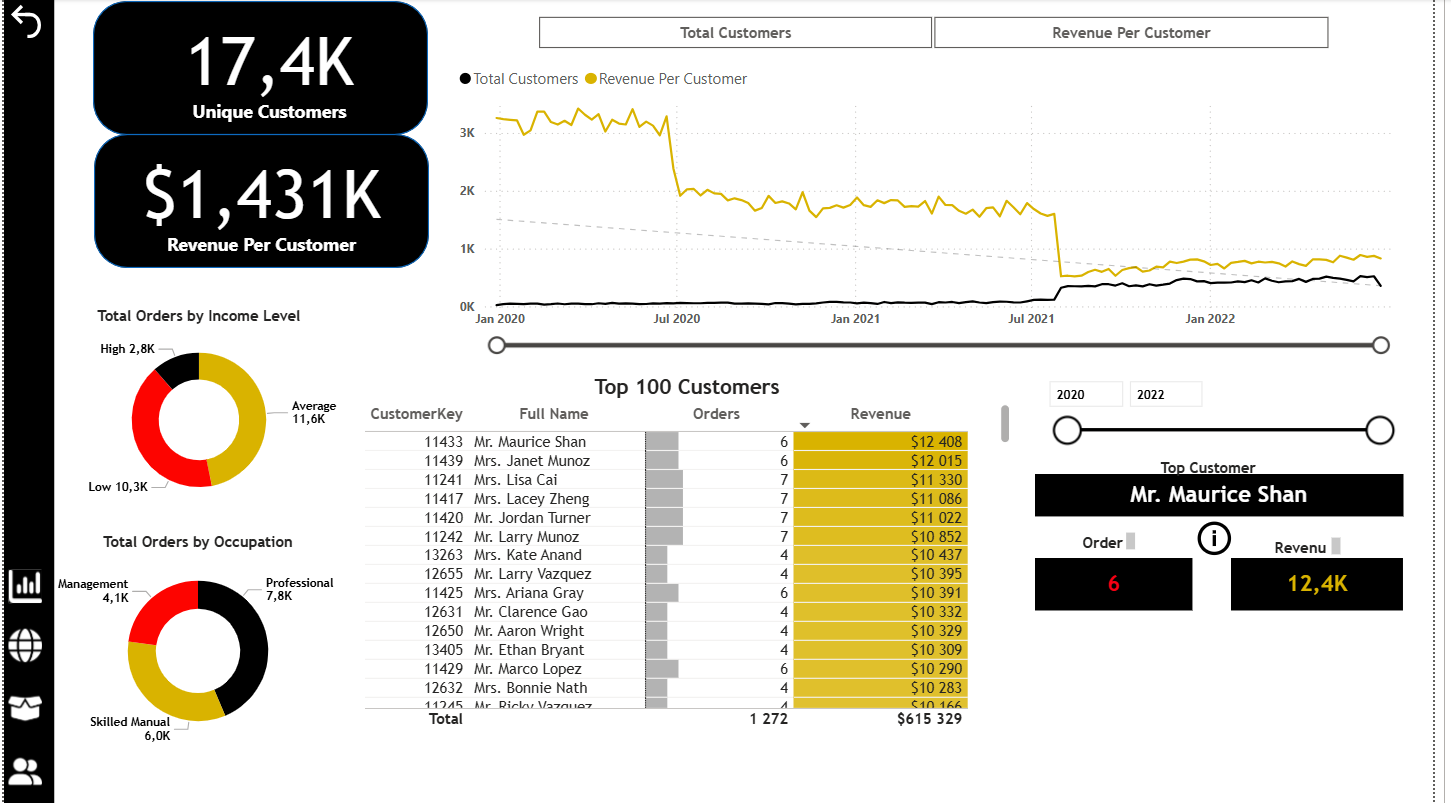

What the dashboard file says about the page in this screenshot:
{"tool":"powerbi","page":{"name":"Customer Detail","canvas":[1280,720],"ordinal":3},"visuals":[{"type":"card","fields":{"Values":["Measure Table.Total Customers"]},"box":[138.3,1.8,199.7,120],"z":0,"group":"g2"},{"type":"group","id":"g1","title":"Cards","box":[80.1,1.9,300.5,239],"z":0},{"type":"shape","box":[80.6,120.9,300,120],"z":0,"group":"g1"},{"type":"actionButton","box":[0,557.9,44.8,43],"z":0,"group":"g3"},{"type":"shape","title":"NAV Bar","box":[0,0,45,720],"z":1000},{"type":"shape","box":[80.1,1.9,300,120],"z":1000,"group":"g1"},{"type":"actionButton","box":[0,505.1,44.8,43],"z":1000,"group":"g3"},{"type":"group","id":"g2","title":"Customer Info","box":[83.4,1.8,294.6,239.3],"z":2000},{"type":"card","fields":{"Values":["Measure Table.Average Revenue Per Customer"]},"box":[83.4,121.1,294.6,120],"z":2000,"group":"g2"},{"type":"actionButton","box":[0,614.4,44.8,43],"z":2000,"group":"g3"},{"type":"lineChart","title":"Total Customers","fields":{"Y":["Measure Table.Total Customers","Measure Table.Average Revenue Per Customer"],"Category":["Calendar Lookup.Date Hierarchy.Start of Year","Calendar Lookup.Date Hierarchy.Start of Month","Calendar Lookup.Date Hierarchy.Start of Week","Calendar Lookup.Date Hierarchy.Date"]},"box":[402.1,51,858.8,269.6],"z":3000},{"type":"actionButton","box":[0,670.8,44.8,43],"z":3000,"group":"g3"},{"type":"donutChart","fields":{"Y":["Measure Table.Total Orders"],"Category":["Customer Lookup.Income Level"]},"box":[46.6,274.9,256.1,188.1],"z":4000},{"type":"donutChart","fields":{"Y":["Measure Table.Total Orders"],"Category":["Customer Lookup.Occupation"]},"box":[44.8,477.3,257.9,197],"z":5000},{"type":"tableEx","title":"Top 100 Customers","fields":{"Values":["Customer Lookup.CustomerKey","Customer Lookup.Full Customer Name","Measure Table.Total Orders","Measure Table.Total Revenue"]},"box":[317,335.8,589.3,321.5],"z":6000},{"type":"card","fields":{"Values":["Measure Table.Full Name (Customer Detail)"]},"box":[923.3,425.4,329.6,37.6],"z":7000},{"type":"card","fields":{"Values":["Measure Table.Total Revenue (Customer Detail)"]},"box":[1098.8,500.6,154,47.5],"z":8000},{"type":"card","fields":{"Values":["Measure Table.Total Orders (Customer Detail)"]},"box":[923.3,500.6,140.6,47.5],"z":9000},{"type":"textbox","box":[1030.7,405.7,113.7,32.2],"z":10000},{"type":"textbox","box":[960.9,472.8,57.3,32.2],"z":11000},{"type":"textbox","box":[1132.8,477.3,69,32.2],"z":12000},{"type":"slicer","fields":{"Values":["Calendar Lookup.Year"]},"box":[923.3,332.2,329.6,73.4],"z":13000},{"type":"actionButton","box":[1063.9,463,43.9,40.3],"z":14000},{"type":"actionButton","box":[0,0,44.8,40.3],"z":15000},{"type":"group","id":"g3","title":"Buttons","box":[0,505.1,44.8,208.7],"z":16000},{"type":"slicer","fields":{"Values":["Customer Metric Selection.Customer Metric Selection"]},"box":[453.1,9,756.7,42.1],"z":17000}]}

Visuals, with their boxes on the page's 1280x720 design canvas (x1, y1, x2, y2). These are canvas units, not pixel positions in the 1451x803 screenshot, which may show the page scaled, cropped or inside an application window:
card - Measure Table.Total Customers: x1=138, y1=2, x2=338, y2=122
"Cards" group: x1=80, y1=2, x2=381, y2=241
shape: x1=81, y1=121, x2=381, y2=241
actionButton: x1=0, y1=558, x2=45, y2=601
"NAV Bar" shape: x1=0, y1=0, x2=45, y2=720
shape: x1=80, y1=2, x2=380, y2=122
actionButton: x1=0, y1=505, x2=45, y2=548
"Customer Info" group: x1=83, y1=2, x2=378, y2=241
card - Measure Table.Average Revenue Per Customer: x1=83, y1=121, x2=378, y2=241
actionButton: x1=0, y1=614, x2=45, y2=657
"Total Customers" lineChart: x1=402, y1=51, x2=1261, y2=321
actionButton: x1=0, y1=671, x2=45, y2=714
donutChart - Measure Table.Total Orders x Customer Lookup.Income Level: x1=47, y1=275, x2=303, y2=463
donutChart - Measure Table.Total Orders x Customer Lookup.Occupation: x1=45, y1=477, x2=303, y2=674
"Top 100 Customers" tableEx: x1=317, y1=336, x2=906, y2=657
card - Measure Table.Full Name (Customer Detail): x1=923, y1=425, x2=1253, y2=463
card - Measure Table.Total Revenue (Customer Detail): x1=1099, y1=501, x2=1253, y2=548
card - Measure Table.Total Orders (Customer Detail): x1=923, y1=501, x2=1064, y2=548
textbox: x1=1031, y1=406, x2=1144, y2=438
textbox: x1=961, y1=473, x2=1018, y2=505
textbox: x1=1133, y1=477, x2=1202, y2=510
slicer - Calendar Lookup.Year: x1=923, y1=332, x2=1253, y2=406
actionButton: x1=1064, y1=463, x2=1108, y2=503
actionButton: x1=0, y1=0, x2=45, y2=40
"Buttons" group: x1=0, y1=505, x2=45, y2=714
slicer - Customer Metric Selection.Customer Metric Selection: x1=453, y1=9, x2=1210, y2=51
